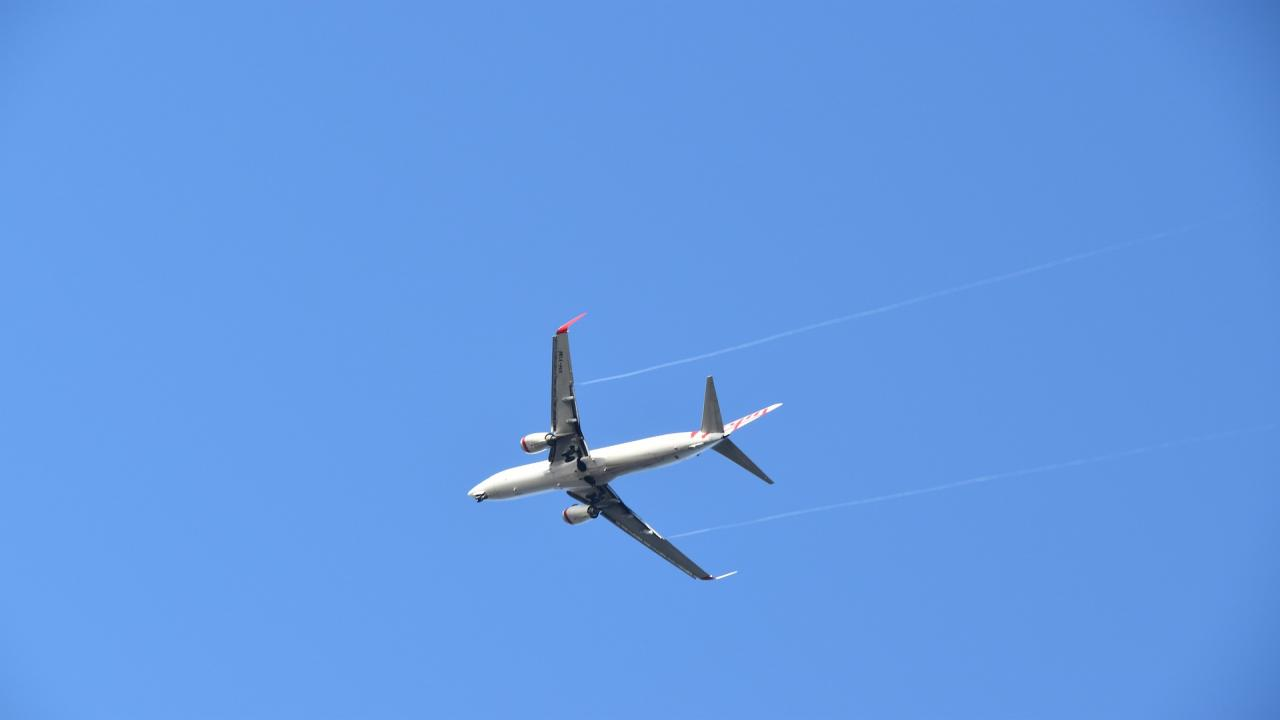Airplane: (454, 302, 800, 595)
